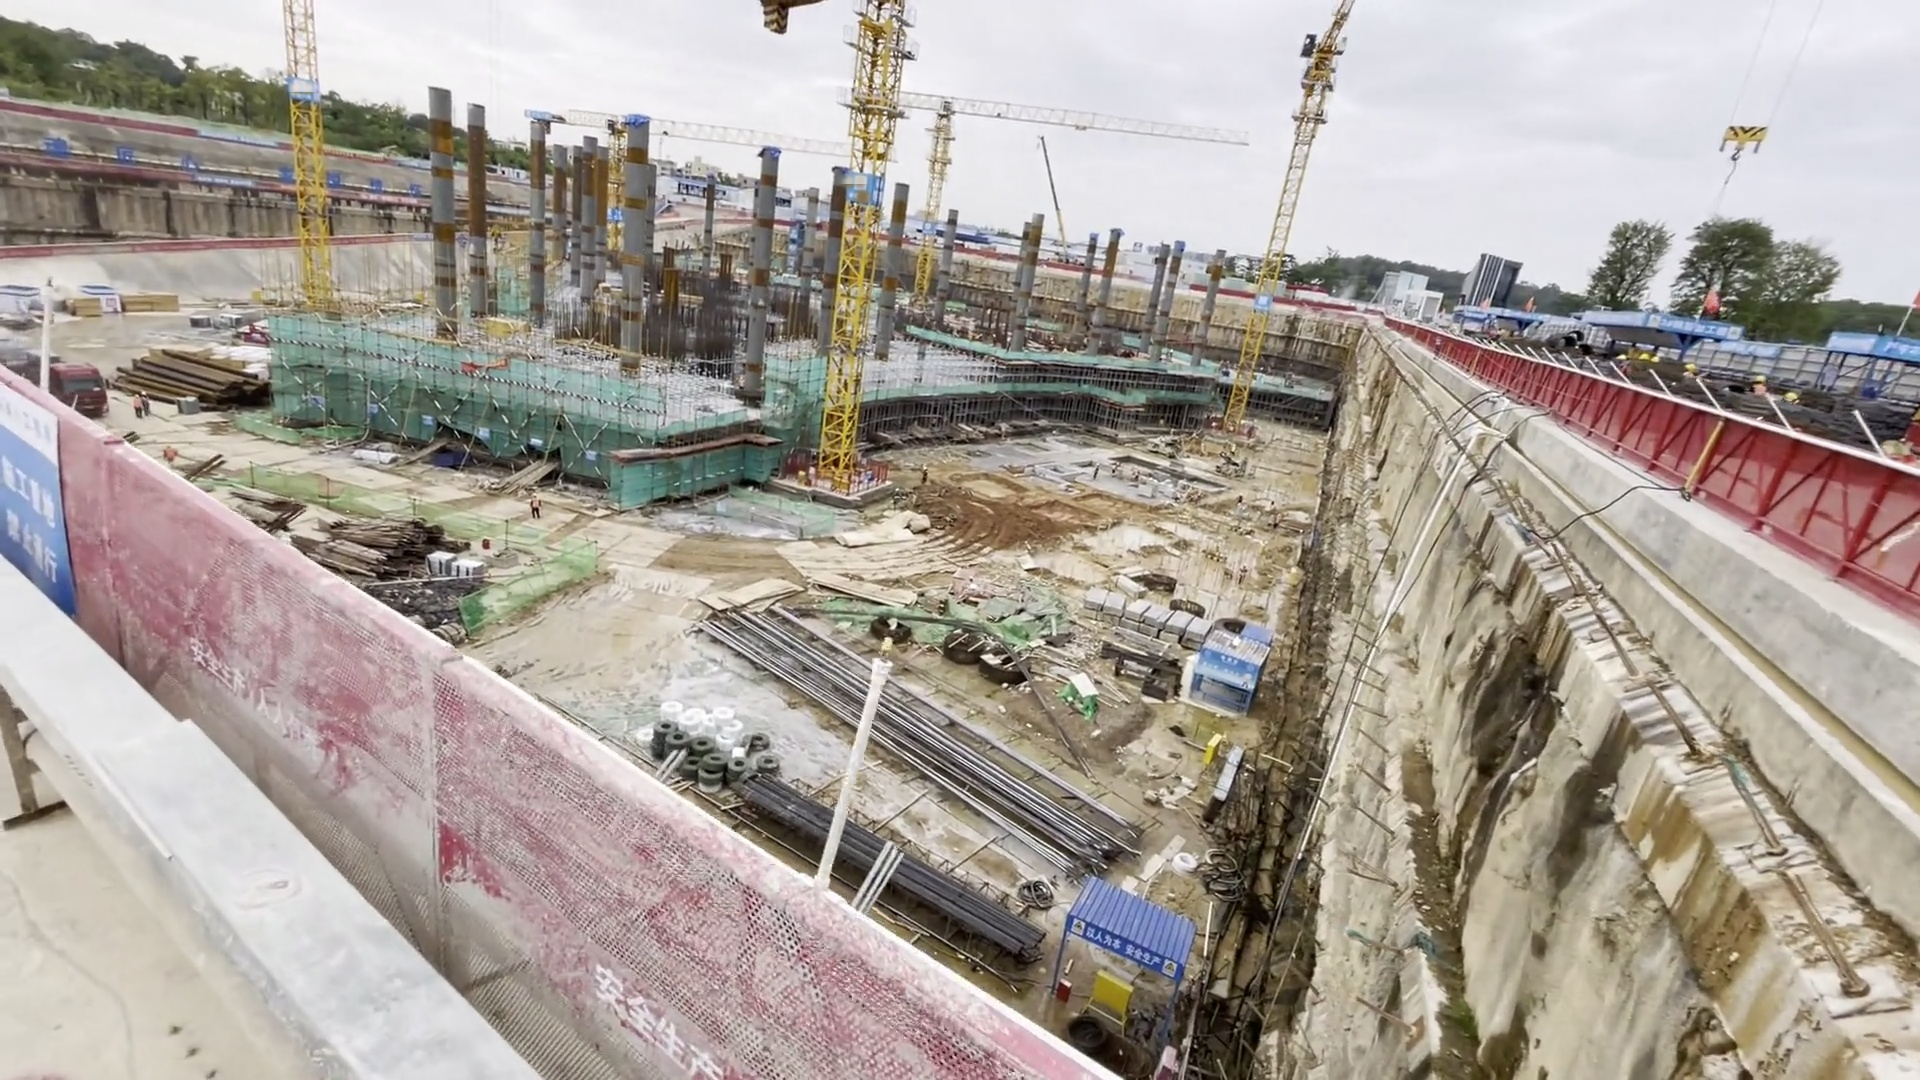board: (710, 575, 916, 614)
brick: (1081, 592, 1208, 652), (420, 548, 487, 593)
ebox: (830, 472, 849, 496)
fence: (116, 520, 668, 933), (1570, 403, 1920, 606)
helmet: (1614, 349, 1630, 361), (1685, 362, 1699, 372), (1635, 352, 1650, 360), (1648, 356, 1665, 363), (1754, 375, 1767, 382)
hook: (1723, 123, 1769, 161)
hopper: (436, 450, 471, 468)
person: (156, 442, 190, 481), (918, 461, 937, 488), (529, 492, 545, 520), (1088, 458, 1104, 484), (128, 391, 143, 416), (140, 389, 152, 418), (894, 484, 900, 509)
rebar: (735, 769, 1055, 971)
slogan: (179, 637, 346, 773), (571, 963, 749, 1079), (1, 416, 75, 625), (27, 140, 213, 177), (1074, 928, 1168, 968), (1653, 317, 1735, 347), (1886, 340, 1920, 361)
wood: (341, 512, 430, 566)
